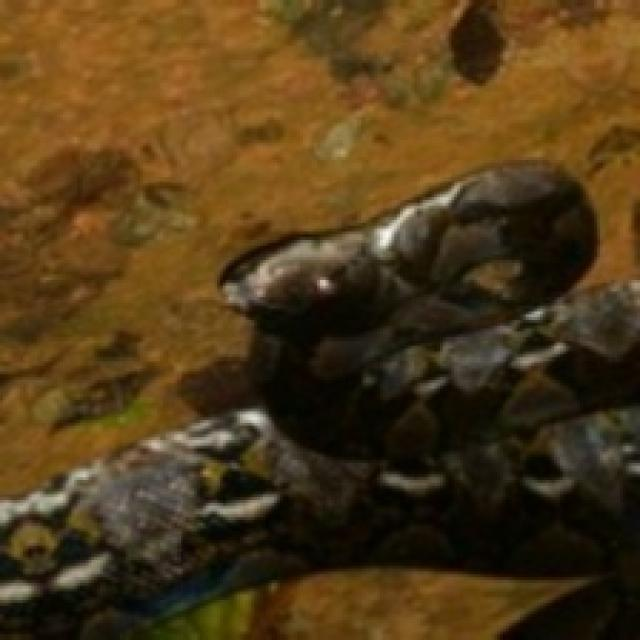reticulated python: (0, 163, 637, 637)
